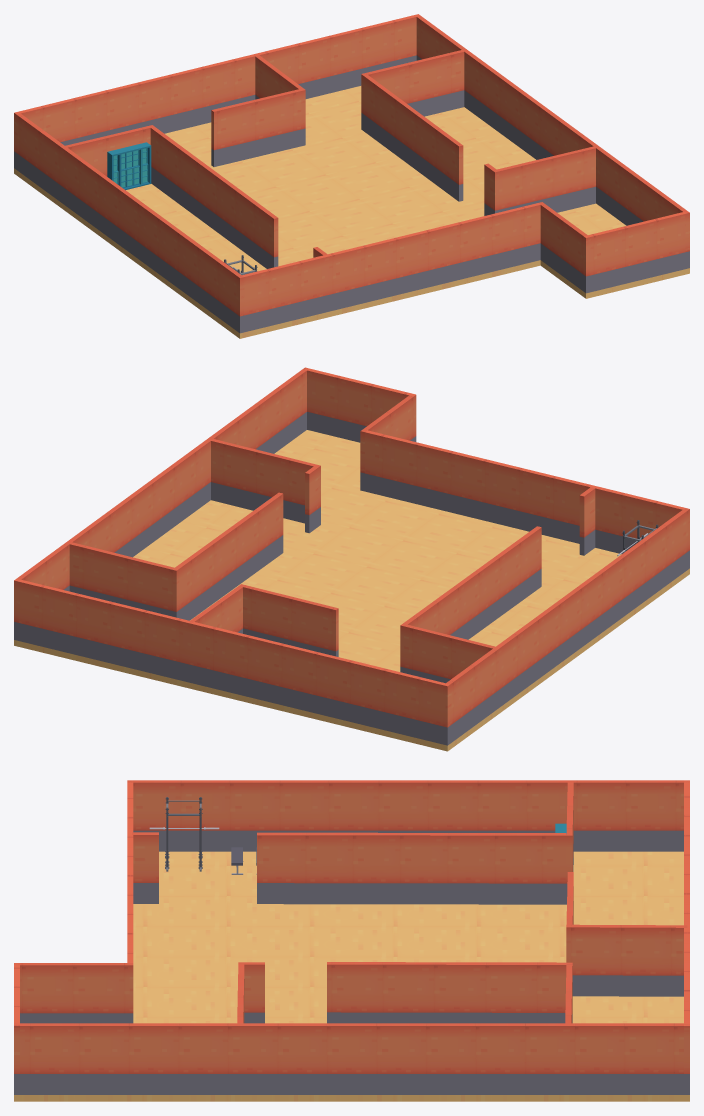
File: Gym_Env_With_Assets.fbx
3 views of the same model, one above another, from view 1: azimuth 30°, elevation 25°; view 2: azimuth 150°, elevation 25°; view 3: azimuth 270°, elevation 25° (orthographic). The views are drawn at different scales.
Visible parts, largest first — view 1: Floor, polySurface8, polySurface7, polySurface3, polySurface4, polySurface13, polySurface14, polySurface9, polySurface11, polySurface17, polySurface15, polySurface5 (+4 smaller); view 2: Floor, polySurface8, polySurface7, polySurface3, polySurface4, polySurface13, polySurface14, polySurface17, polySurface15, polySurface9, polySurface11, polySurface12 (+4 smaller); view 3: Floor, polySurface4, polySurface3, polySurface13, polySurface14, polySurface10, polySurface5, polySurface8, polySurface18, polySurface16, polySurface7, polySurface9 (+2 smaller).
Boxes of the visible parts, left/top/right/bottom form: Floor: left=14, top=86, right=689, bottom=338; polySurface8: left=14, top=14, right=420, bottom=169; polySurface7: left=237, top=203, right=540, bottom=333; polySurface3: left=14, top=113, right=244, bottom=332; polySurface4: left=415, top=14, right=689, bottom=268; polySurface13: left=150, top=127, right=278, bottom=268; polySurface14: left=363, top=75, right=463, bottom=201; polySurface9: left=583, top=211, right=689, bottom=292; polySurface11: left=211, top=88, right=305, bottom=166; polySurface17: left=492, top=146, right=595, bottom=212; polySurface15: left=361, top=50, right=464, bottom=130; polySurface5: left=538, top=202, right=590, bottom=293; Floor: left=14, top=430, right=689, bottom=751; polySurface8: left=14, top=579, right=450, bottom=745; polySurface7: left=365, top=430, right=688, bottom=554; polySurface3: left=443, top=508, right=689, bottom=744; polySurface4: left=14, top=369, right=307, bottom=635; polySurface13: left=403, top=526, right=541, bottom=639; polySurface14: left=175, top=492, right=283, bottom=620; polySurface17: left=211, top=439, right=320, bottom=524; polySurface15: left=69, top=542, right=179, bottom=617; polySurface9: left=303, top=367, right=416, bottom=442; polySurface11: left=239, top=584, right=338, bottom=656; polySurface12: left=400, top=623, right=495, bottom=683; Floor: left=14, top=851, right=689, bottom=1101; polySurface4: left=14, top=1023, right=689, bottom=1094; polySurface3: left=127, top=780, right=689, bottom=851; polySurface13: left=257, top=832, right=566, bottom=904; polySurface14: left=327, top=962, right=566, bottom=1023; polySurface10: left=566, top=924, right=687, bottom=996; polySurface5: left=14, top=963, right=133, bottom=1023; polySurface8: left=684, top=780, right=689, bottom=1094; polySurface18: left=132, top=832, right=158, bottom=903; polySurface16: left=238, top=962, right=264, bottom=1023; polySurface7: left=127, top=780, right=133, bottom=962; polySurface9: left=14, top=963, right=19, bottom=1094.
Size of the model in its own units: 77.25 by 11.1 by 89.79.
Materials: 4 (4 with a texture image).
